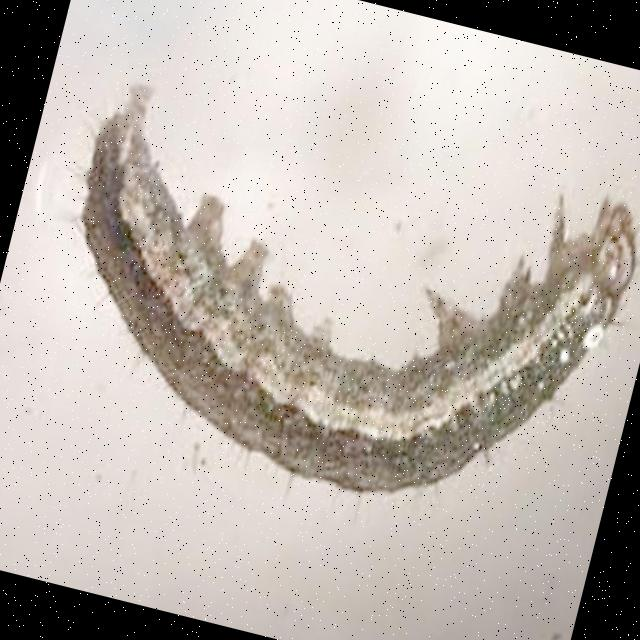worm: (21, 70, 640, 549)
